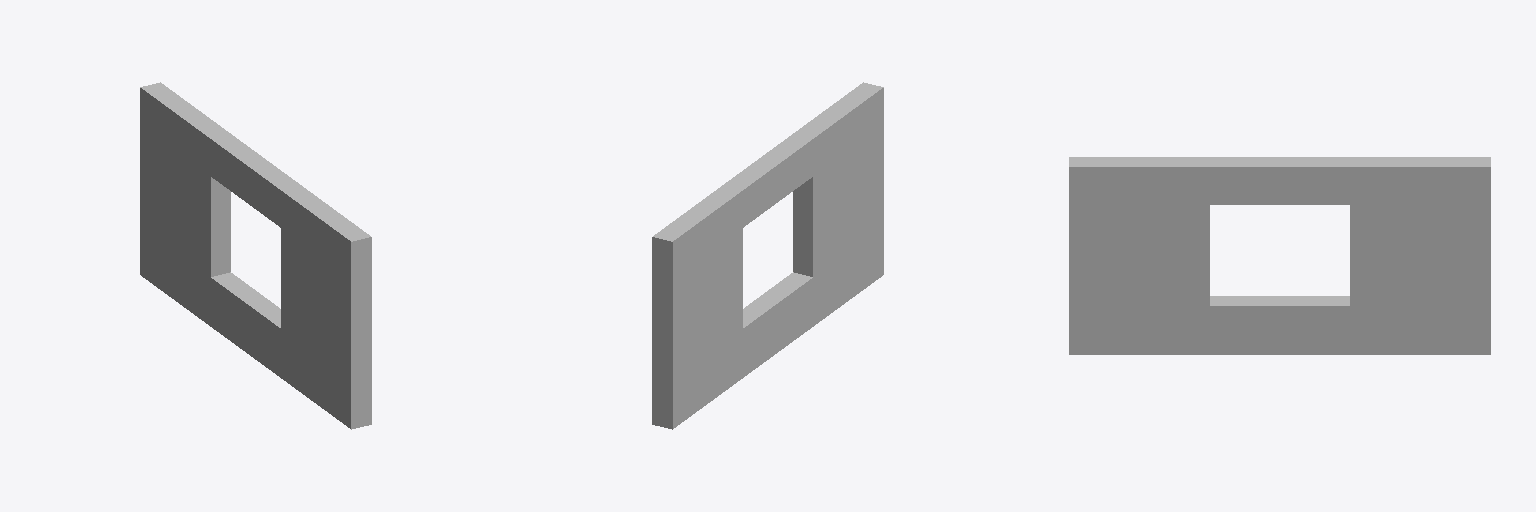
Rendered from WindowWall.obj.
3 renders of one model, left to right at view 1: azimuth 30°, elevation 25°; view 2: azimuth 150°, elevation 25°; view 3: azimuth 270°, elevation 25°, orthographic.
Parts seen in each view (by area): view 1: pCube1; view 2: pCube1; view 3: pCube1.
Boxes of the visible parts, x1=… form: pCube1: x1=140, y1=82, x2=371, y2=429; pCube1: x1=652, y1=82, x2=883, y2=429; pCube1: x1=1069, y1=157, x2=1490, y2=354.
Bounding box in the file's own units: 3.8 × 33.42 × 68.11.